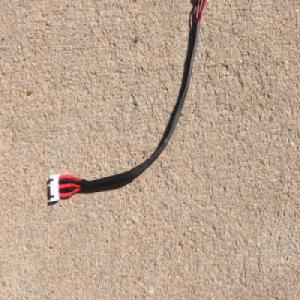Wire: (47, 0, 208, 205)
